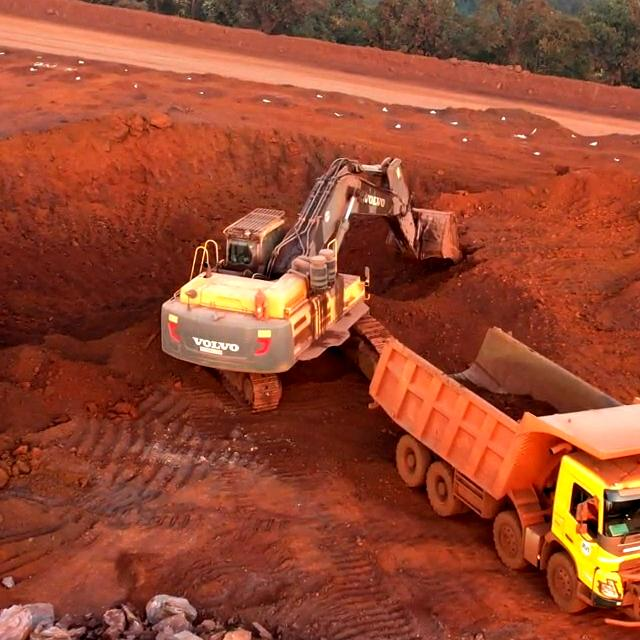Dumper truck: (480, 405, 640, 552)
Excavator: (185, 219, 364, 362)
